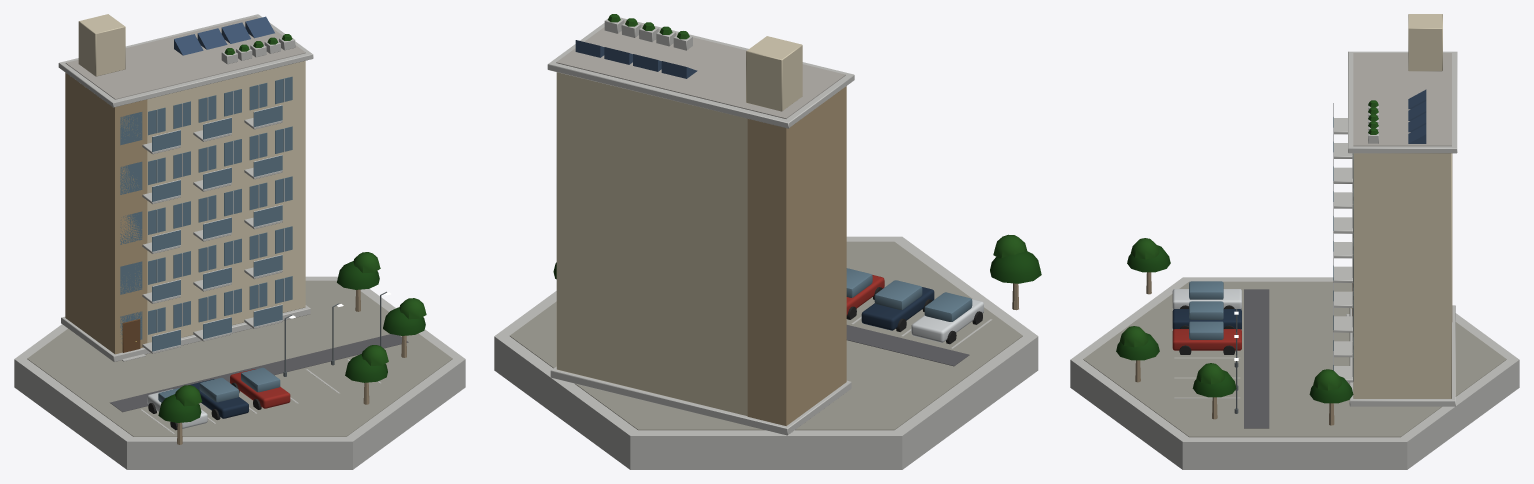
The model's file is apartments.glb.
3 views of the same model, side by side, from view 1: azimuth 30°, elevation 25°; view 2: azimuth 150°, elevation 25°; view 3: azimuth 270°, elevation 25° (orthographic). The views are drawn at different scales.
Visible parts, largest first — view 1: pavers, wall_concrete, glass, plaster, paint, gravel, leaf, asphalt, solar, wood, metal; view 2: plaster, wall_concrete, paint, pavers, gravel, glass, leaf, asphalt, solar; view 3: plaster, wall_concrete, pavers, gravel, leaf, asphalt, paint, glass, solar, wood.
Part boxes in pixels (left/top/right/bottom): pavers: left=27, top=280, right=452, bottom=436; wall_concrete: left=14, top=14, right=465, bottom=469; glass: left=120, top=76, right=292, bottom=402; plaster: left=78, top=14, right=305, bottom=342; paint: left=65, top=72, right=290, bottom=428; gravel: left=65, top=16, right=305, bottom=99; leaf: left=158, top=34, right=426, bottom=422; asphalt: left=110, top=334, right=408, bottom=412; solar: left=174, top=16, right=274, bottom=55; wood: left=122, top=289, right=406, bottom=444; metal: left=152, top=105, right=282, bottom=336; plaster: left=556, top=36, right=802, bottom=415; wall_concrete: left=494, top=17, right=1038, bottom=469; paint: left=747, top=86, right=983, bottom=425; pavers: left=510, top=241, right=1022, bottom=430; gravel: left=556, top=20, right=845, bottom=118; glass: left=846, top=268, right=972, bottom=321; leaf: left=553, top=14, right=1041, bottom=283; asphalt: left=846, top=325, right=969, bottom=366; solar: left=575, top=40, right=697, bottom=78; plaster: left=1353, top=14, right=1451, bottom=398; wall_concrete: left=1070, top=51, right=1519, bottom=469; pavers: left=1083, top=281, right=1506, bottom=437; gravel: left=1353, top=53, right=1451, bottom=146; leaf: left=1116, top=100, right=1378, bottom=403; asphalt: left=1244, top=289, right=1269, bottom=428; paint: left=1172, top=153, right=1452, bottom=350; glass: left=1189, top=117, right=1353, bottom=380; solar: left=1408, top=89, right=1426, bottom=143; wood: left=1135, top=272, right=1352, bottom=425.
Bounding box in the file's own units: 21.3 × 20.04 × 24.6.
